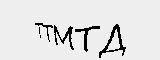Д: (98, 23, 128, 58)
М: (50, 24, 73, 52)
Т: (73, 24, 100, 54), (41, 22, 54, 44), (33, 19, 44, 43)
